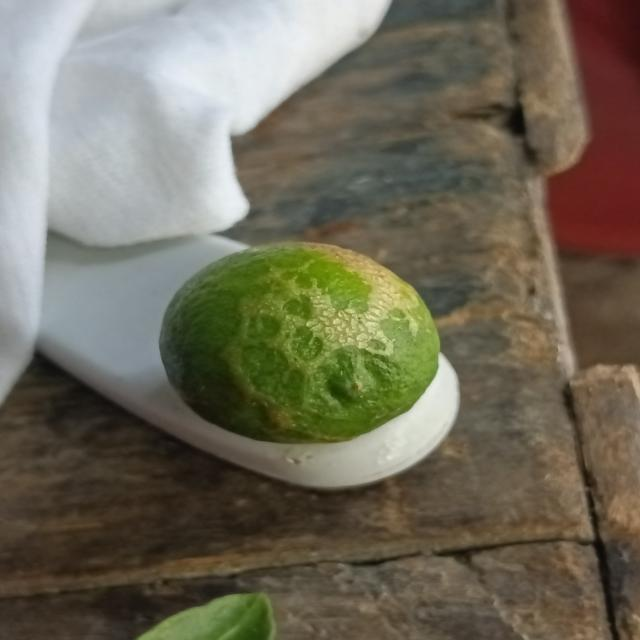thrips: (152, 242, 444, 445)
